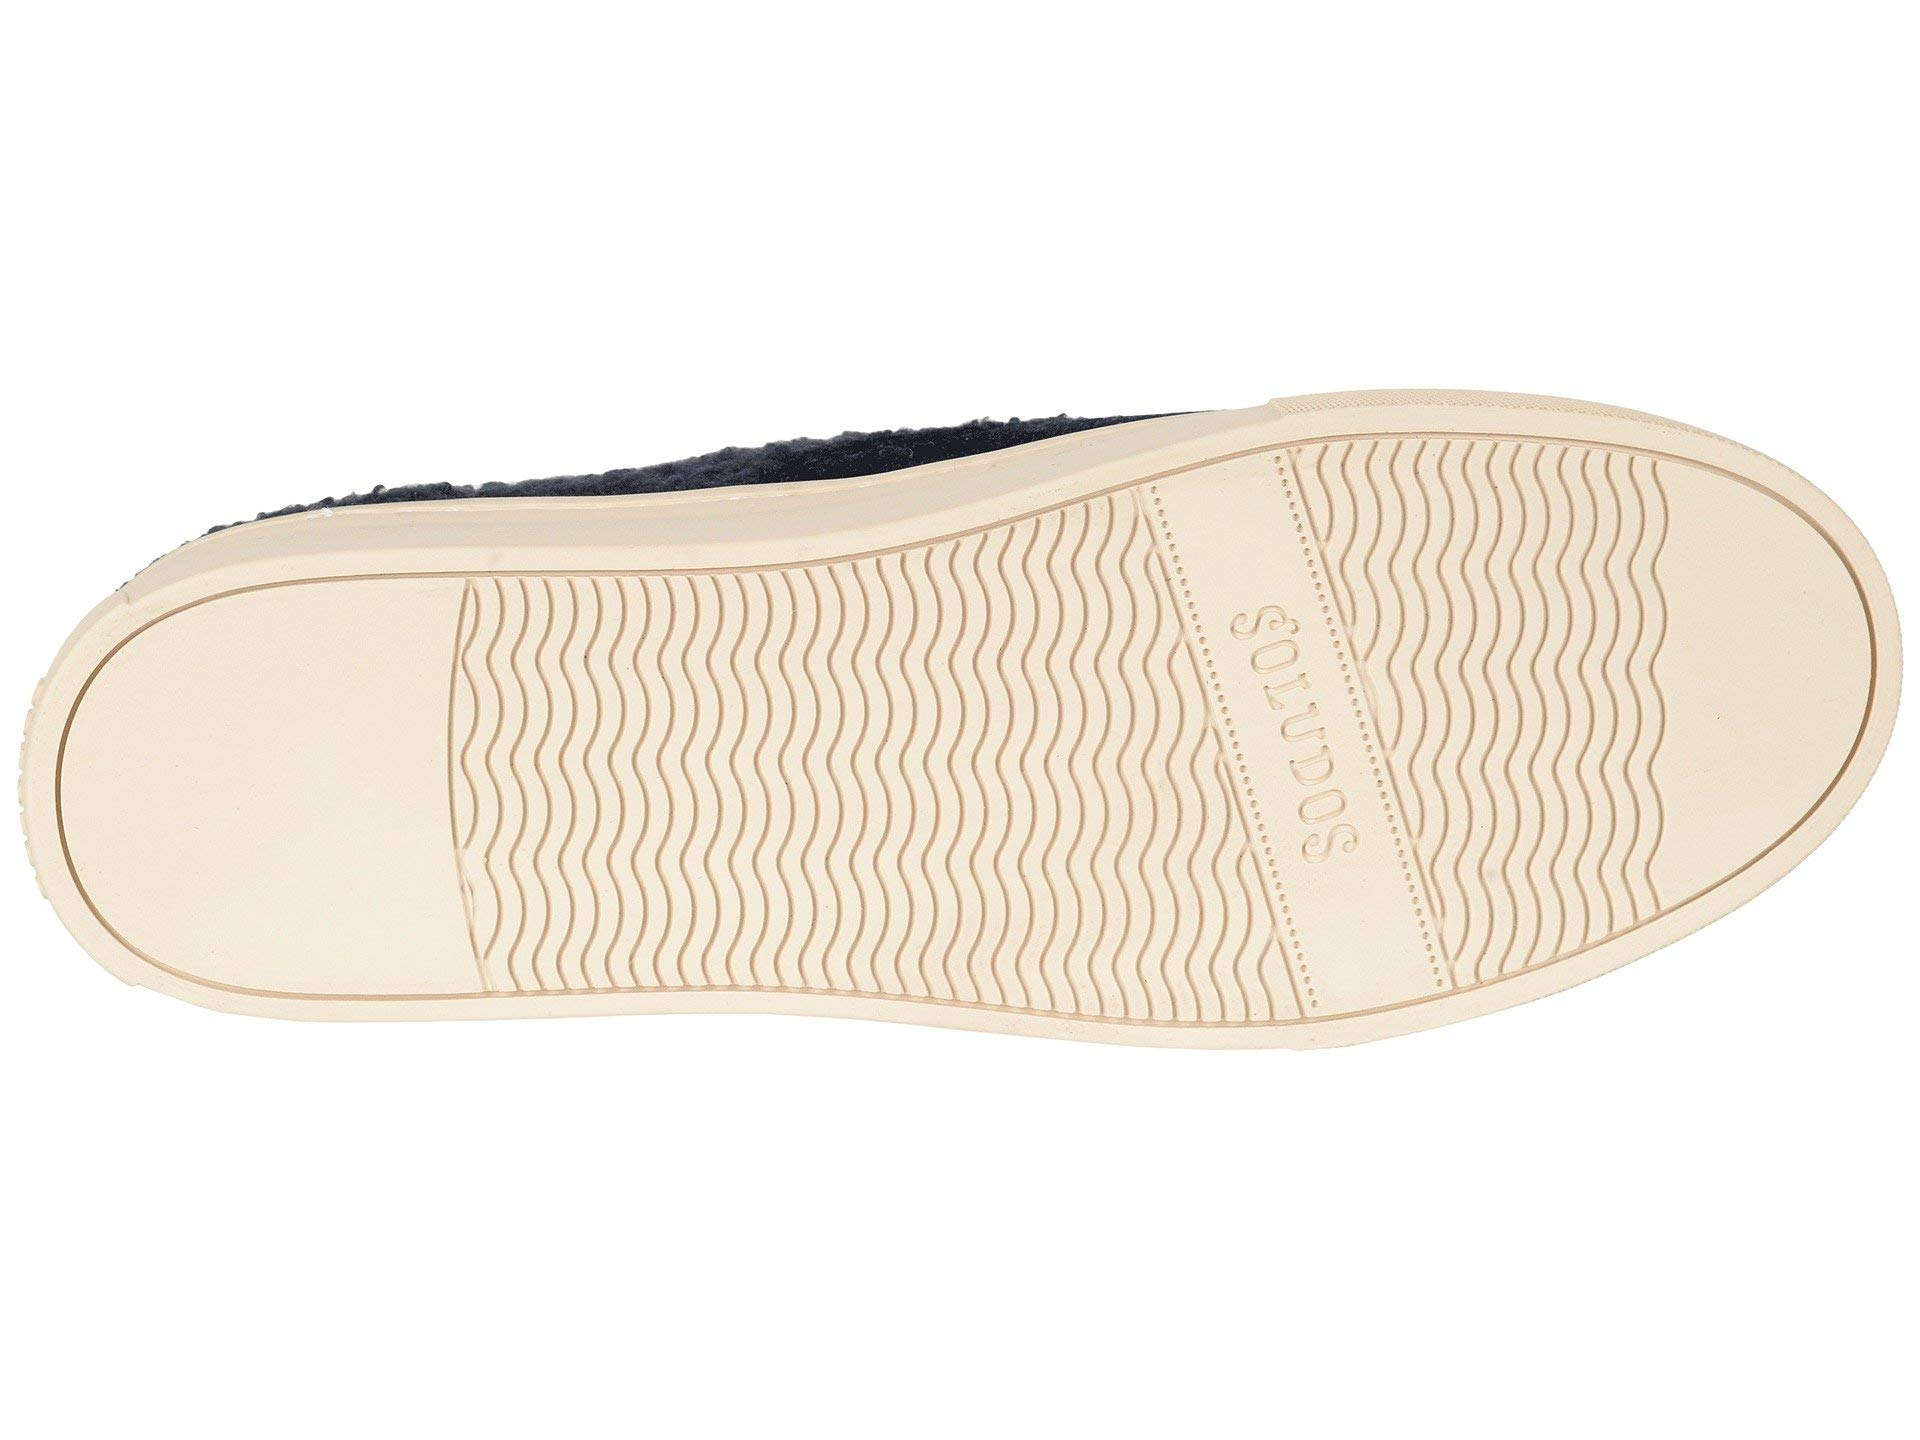chevron: (1082, 507, 1577, 948), (531, 610, 872, 986)
circle: (1082, 507, 1577, 948)
line: (1082, 507, 1577, 948)
text: (1082, 507, 1577, 948)
